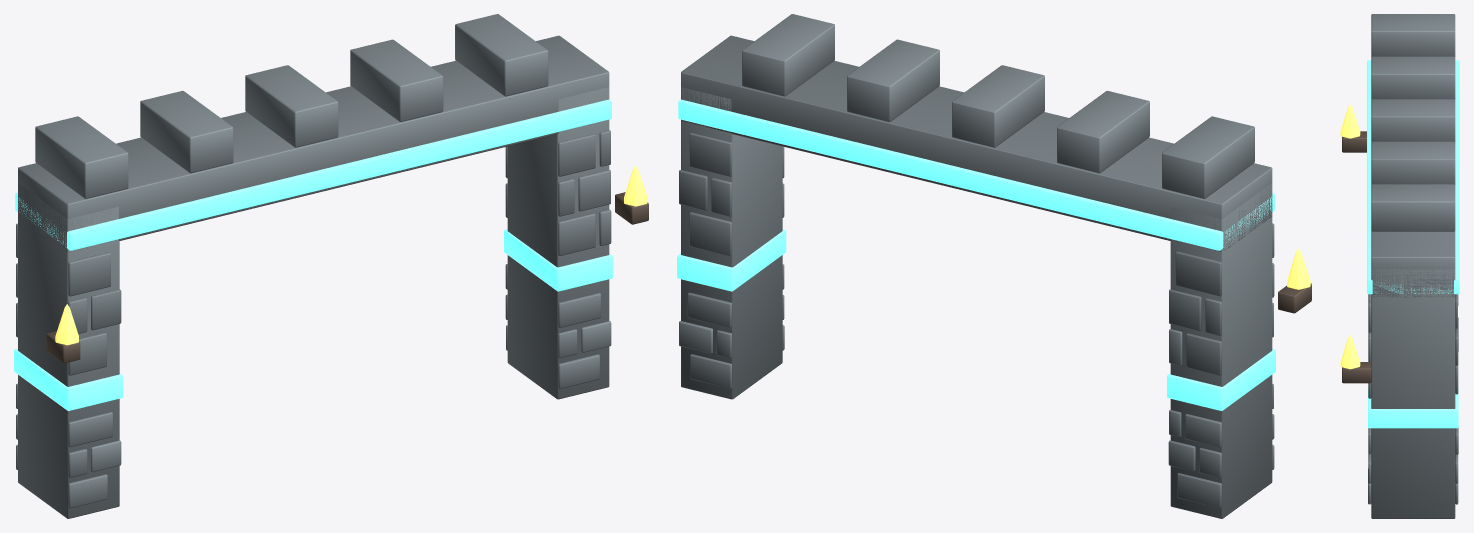
File: castle_gate_a.glb
3 views of the same model, side by side, from view 1: azimuth 30°, elevation 25°; view 2: azimuth 150°, elevation 25°; view 3: azimuth 270°, elevation 25° (orthographic). The views are drawn at different scales.
Parts seen in each view (by area): view 1: castle_gate_a; view 2: castle_gate_a; view 3: castle_gate_a.
Boxes of the visible parts, x1,y1,x2,y2 form: castle_gate_a: [14, 14, 648, 518]; castle_gate_a: [677, 14, 1311, 518]; castle_gate_a: [1340, 14, 1459, 518].
Size of the model in its own units: 6.76 by 3.85 by 1.42.
Materials: 3 (1 with a texture image).
